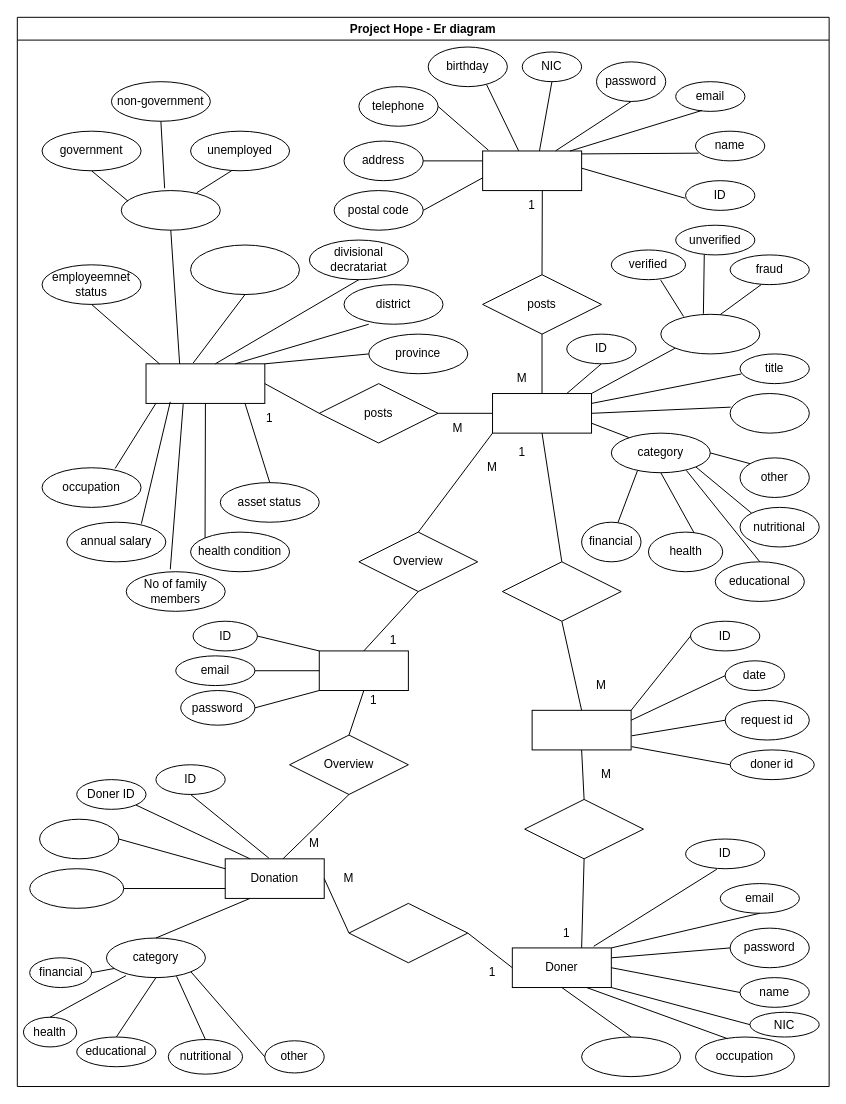
Some shapes in this 846 by 1104 pixel diagram are drawn without their labels. Here are the shapes that lost their labels. From the top down, the centre of each, then its label:
point (532, 170): Recepient
point (170, 210): employeemnet category
point (244, 269): grama niladhari division
point (710, 333): verification status
point (205, 383): Verified recepient
point (542, 413): Request
point (769, 413): Message
point (561, 591): has
point (363, 670): Admin
point (581, 729): Inquiry
point (79, 838): Receipient ID
point (584, 828): inquires
point (76, 888): Donation description
point (408, 932): makes
point (631, 1056): organization
